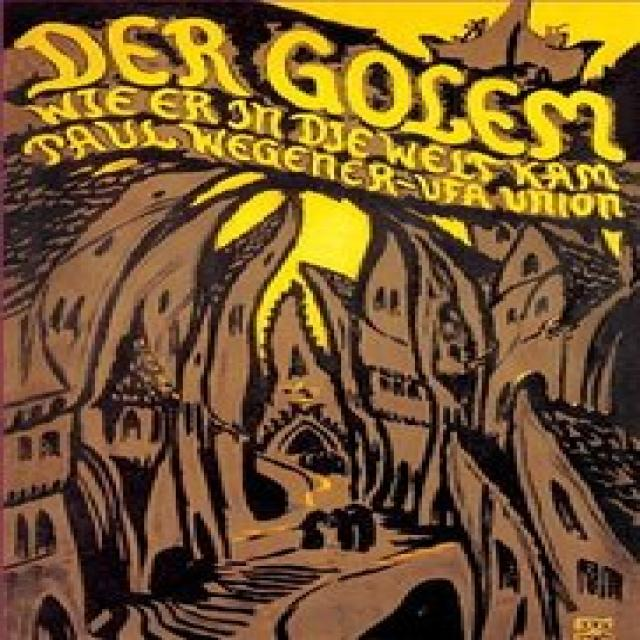movie-judul: (19, 14, 630, 229)
